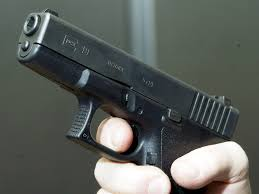gun: (17, 8, 241, 194)
